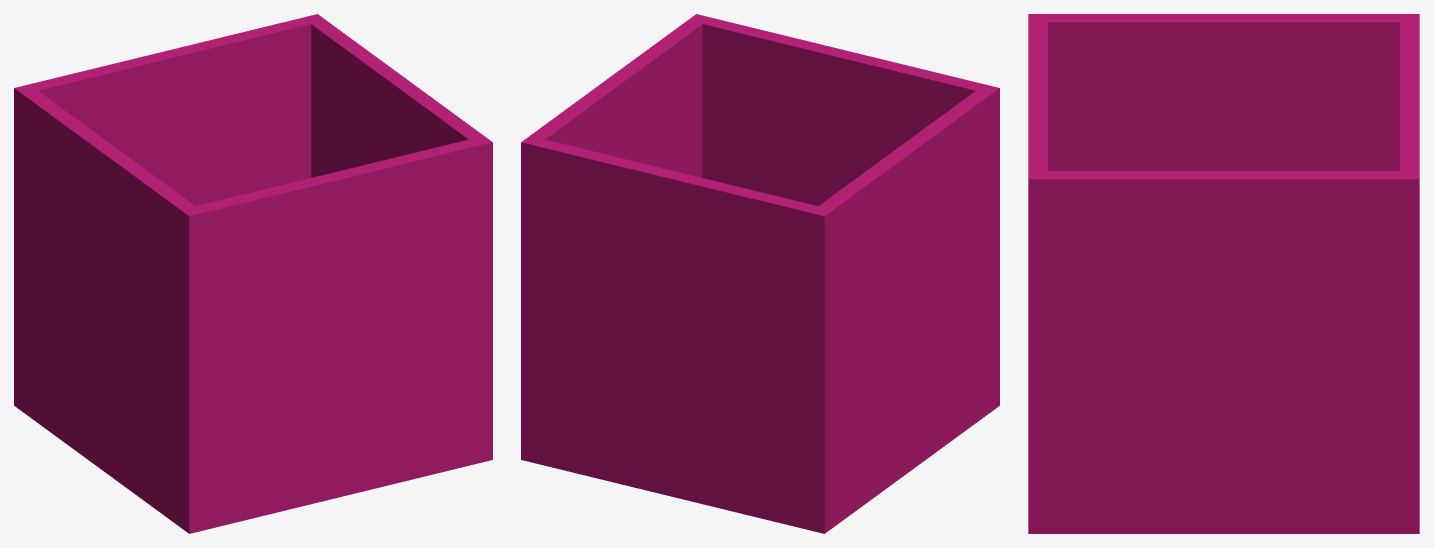
Rendered from 2m-bucketCube 1.obj.
3 renders of one model, left to right at view 1: azimuth 30°, elevation 25°; view 2: azimuth 150°, elevation 25°; view 3: azimuth 270°, elevation 25°, orthographic. The views are drawn at different scales.
Visible parts, largest first — view 1: Solid1; view 2: Solid1; view 3: Solid1.
Part boxes in pixels (left/top/right/bottom): Solid1: left=14, top=14, right=492, bottom=533; Solid1: left=521, top=14, right=999, bottom=533; Solid1: left=1028, top=14, right=1419, bottom=533.
Bounding box in the file's own units: 2 × 2 × 2.
